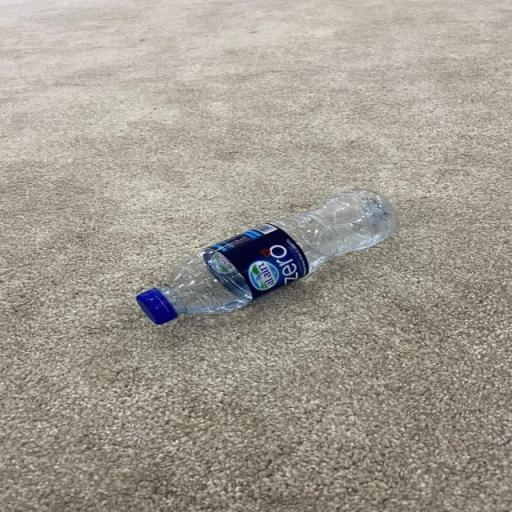plastic: (136, 186, 400, 330)
